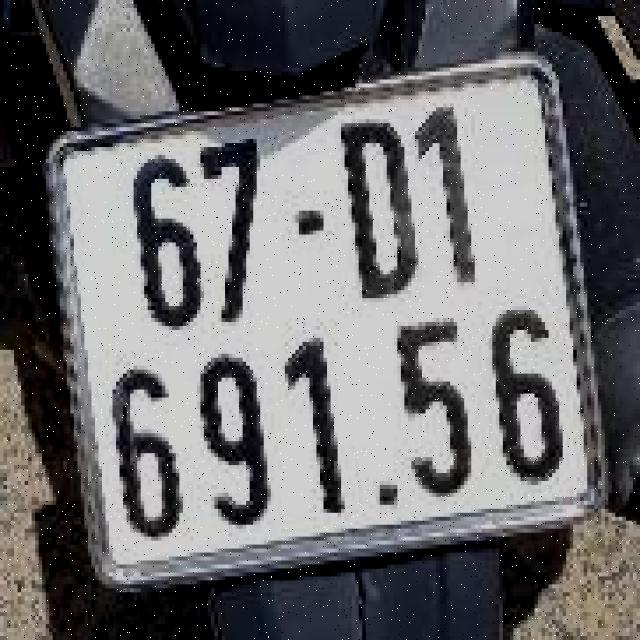1: (420, 98, 491, 292), (278, 336, 352, 519)
5: (390, 314, 475, 501)
6: (490, 304, 568, 491), (107, 364, 185, 538), (128, 153, 202, 336)
7: (199, 129, 269, 328)
9: (198, 352, 272, 527)
D: (332, 113, 417, 296)
